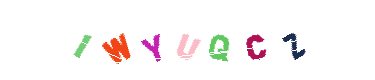1: (77, 0, 157, 80)
C: (214, 0, 294, 80)
Q: (147, 0, 227, 80)
U: (140, 0, 220, 80)
W: (124, 0, 204, 80)
Y: (137, 0, 217, 80)
Z: (254, 0, 334, 80)
